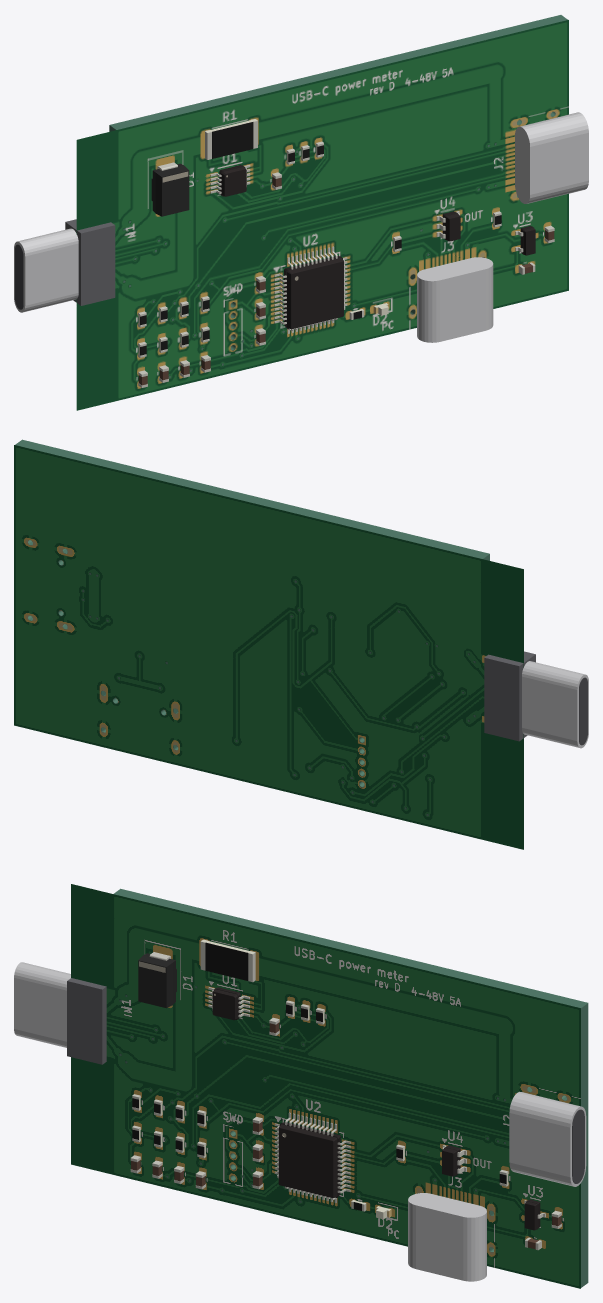
File: current_usb.glb
3 renders of one model, top to bottom at view 1: azimuth 30°, elevation 25°; view 2: azimuth 150°, elevation 25°; view 3: azimuth 330°, elevation 25°, orthographic. The views are drawn at different scales.
Parts seen in each view (by area): view 1: pcb_top_layers, J1, J3, J2, =>[0:1:1:20]_e2dc86, =>[0:1:1:7]_9c3943, =>[0:1:1:13]_ed0e26, =>[0:1:1:17]_9c21c7, =>[0:1:1:15]_c5edfd; view 2: pcb_bottom_layers, J1, =>[0:1:1:20]_e2dc86; view 3: pcb_top_layers, J1, J2, J3, =>[0:1:1:20]_e2dc86, =>[0:1:1:7]_9c3943, =>[0:1:1:20]_6a8602, =>[0:1:1:13]_ed0e26, =>[0:1:1:17]_9c21c7, =>[0:1:1:15]_c5edfd.
Part boxes in pixels (x1=…): pcb_top_layers: x1=76, y1=20, x2=568, y2=410; J1: x1=14, y1=219, x2=115, y2=312; J3: x1=417, y1=257, x2=493, y2=342; J2: x1=515, y1=112, x2=588, y2=203; =>[0:1:1:20]_e2dc86: x1=110, y1=15, x2=567, y2=129; =>[0:1:1:7]_9c3943: x1=291, y1=261, x2=343, y2=328; =>[0:1:1:13]_ed0e26: x1=212, y1=122, x2=253, y2=158; =>[0:1:1:17]_9c21c7: x1=162, y1=170, x2=189, y2=216; =>[0:1:1:15]_c5edfd: x1=224, y1=169, x2=246, y2=196; pcb_bottom_layers: x1=14, y1=445, x2=523, y2=849; J1: x1=484, y1=651, x2=588, y2=748; =>[0:1:1:20]_e2dc86: x1=15, y1=439, x2=489, y2=558; pcb_top_layers: x1=71, y1=884, x2=580, y2=1288; J1: x1=14, y1=962, x2=106, y2=1064; J2: x1=509, y1=1091, x2=586, y2=1186; J3: x1=408, y1=1193, x2=486, y2=1281; =>[0:1:1:20]_e2dc86: x1=113, y1=888, x2=587, y2=1007; =>[0:1:1:7]_9c3943: x1=278, y1=1128, x2=332, y2=1197; =>[0:1:1:20]_6a8602: x1=581, y1=1003, x2=588, y2=1287; =>[0:1:1:13]_ed0e26: x1=205, y1=943, x2=247, y2=980; =>[0:1:1:17]_9c21c7: x1=138, y1=960, x2=166, y2=1008; =>[0:1:1:15]_c5edfd: x1=212, y1=991, x2=234, y2=1020.
Bounding box in the file's own units: 0.0684 × 0.0327 × 0.00576.
14 materials, 2 textured.
